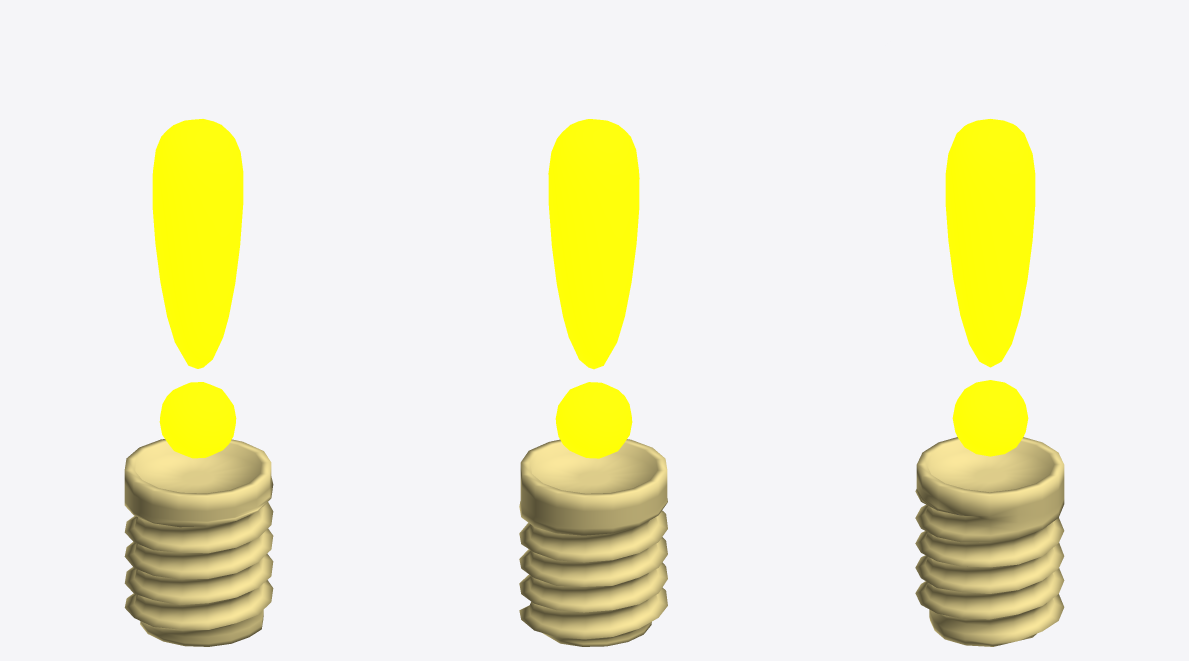
The model's file is idea_lamp.glb.
3 views of the same model, side by side, from view 1: azimuth 30°, elevation 25°; view 2: azimuth 150°, elevation 25°; view 3: azimuth 270°, elevation 25° (orthographic).
Parts seen in each view (by area): view 1: Base, Cube; view 2: Base, Cube; view 3: Base, Cube.
Boxes of the visible parts, <box> form: Base: <box>124,439,273,646</box>; Cube: <box>152,119,243,458</box>; Base: <box>519,439,667,646</box>; Cube: <box>548,119,639,458</box>; Base: <box>915,437,1064,646</box>; Cube: <box>945,119,1035,456</box>.
Bounding box in the file's own units: 52.7 × 94.09 × 52.7.
Materials: 1 (1 with a texture image).
